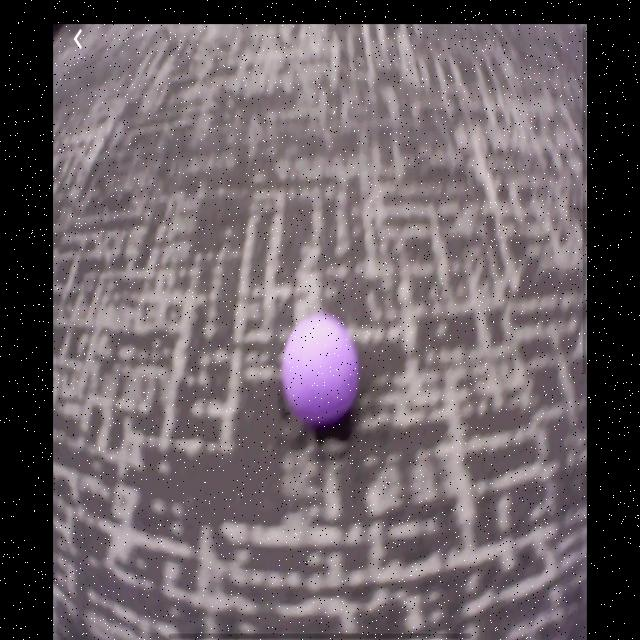ball: (285, 316, 358, 431)
